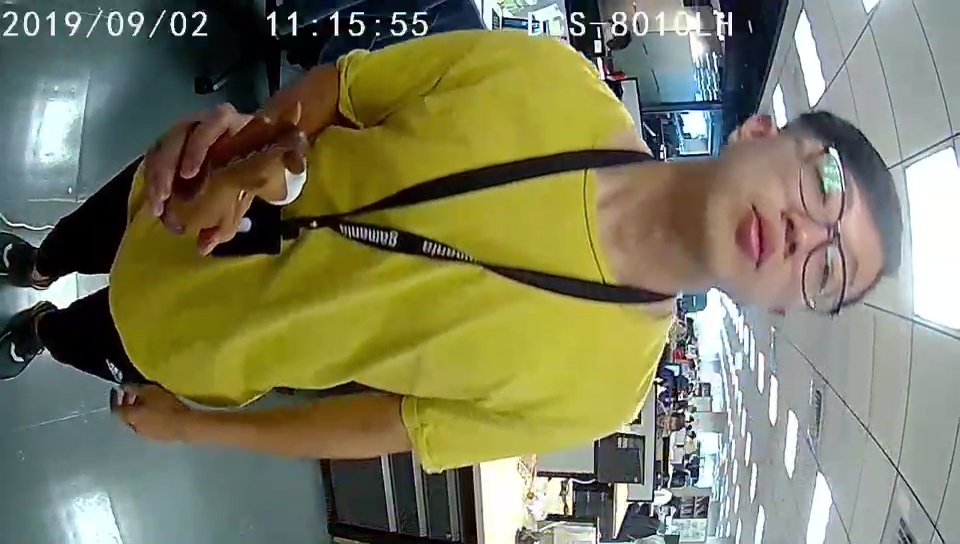horse: (178, 118, 306, 242)
